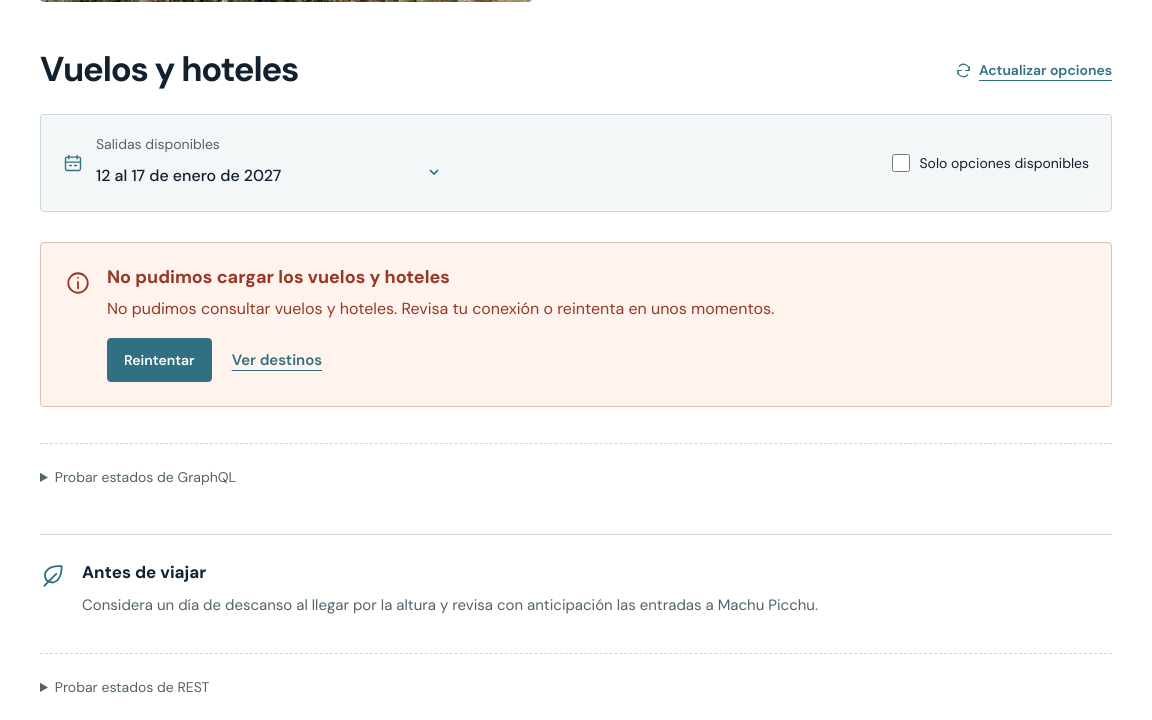
Navegación, selección y recuperación › explica un error GraphQL y permite recuperarse
The image size is (1152, 720).
(page scrolled)
Expected: the message is shown, x1=40 y1=242 x2=1112 y2=407
What coordinates should you click on to do the following:
click the button "Reintentar"
I would click on:
 (159, 360)
Its box is x1=107 y1=338 x2=212 y2=382.
(page scrolled)
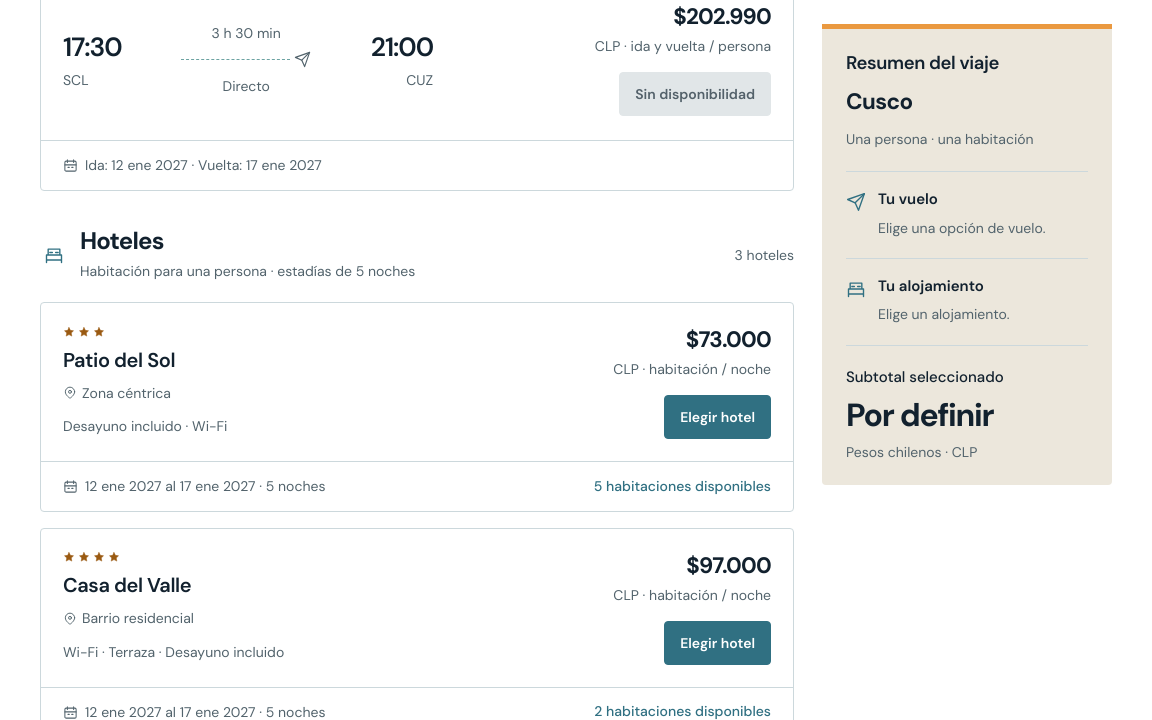
Now the heading "Patio del Sol" is shown, box x1=63 y1=347 x2=175 y2=373
